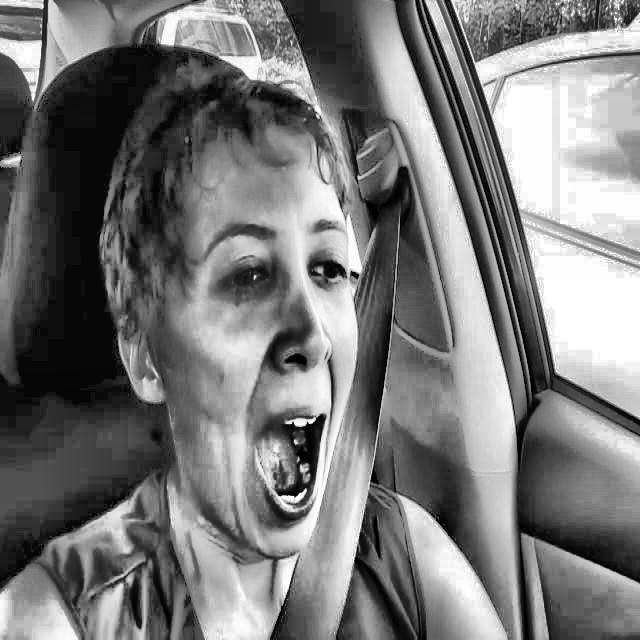open_eyes: (204, 247, 279, 310), (296, 236, 360, 302)
open_mouth: (229, 395, 353, 537)
